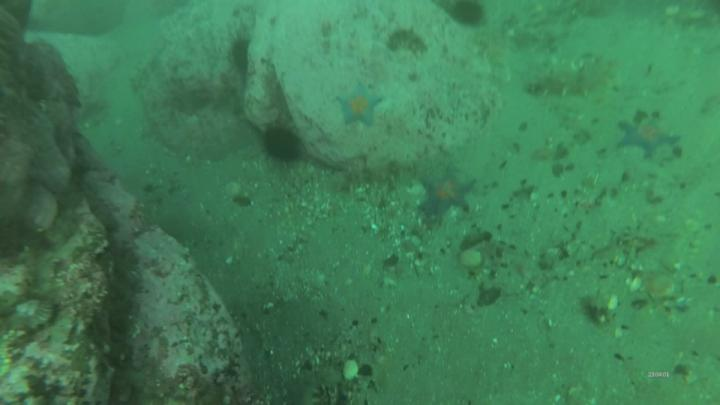echinus: (266, 128, 300, 161), (230, 39, 251, 73), (452, 4, 483, 24)
holothurian: (529, 68, 597, 96), (388, 27, 430, 56)
starfish: (620, 119, 679, 156), (421, 172, 475, 212), (337, 85, 380, 125)
